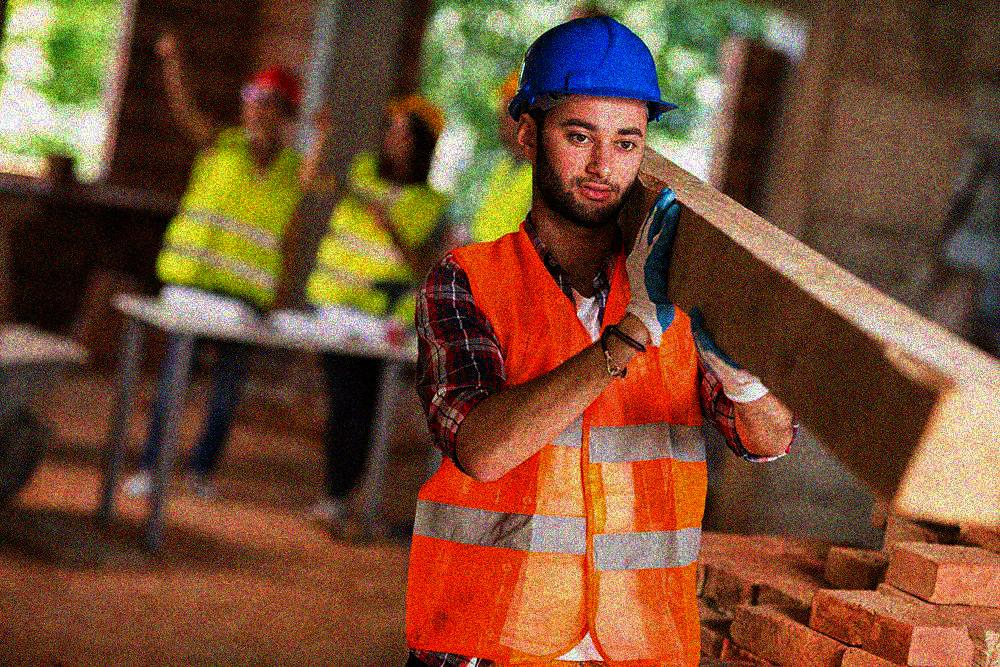helmet: (503, 16, 679, 232), (377, 90, 444, 182), (236, 63, 304, 139)
